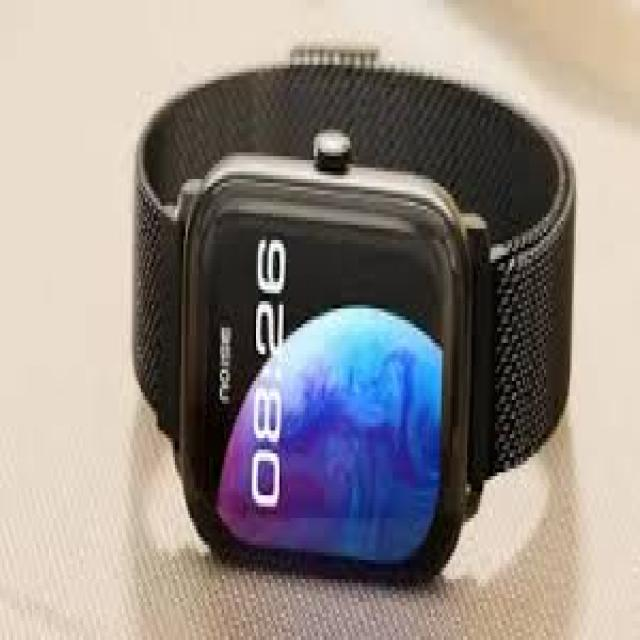objects: (132, 50, 576, 581)
